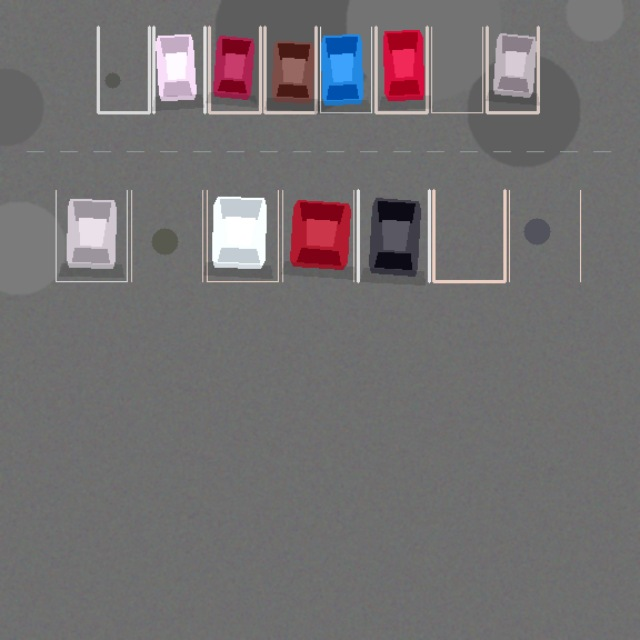space-empty: (131, 190, 202, 281), (433, 190, 504, 281), (509, 190, 580, 281), (98, 27, 149, 112), (431, 27, 482, 112)
space-occupied: (56, 190, 127, 281), (207, 190, 278, 281), (282, 190, 353, 281), (358, 190, 429, 281), (264, 27, 316, 112), (153, 27, 204, 112), (209, 27, 260, 112), (320, 27, 371, 112), (376, 27, 427, 112), (487, 27, 538, 112)
